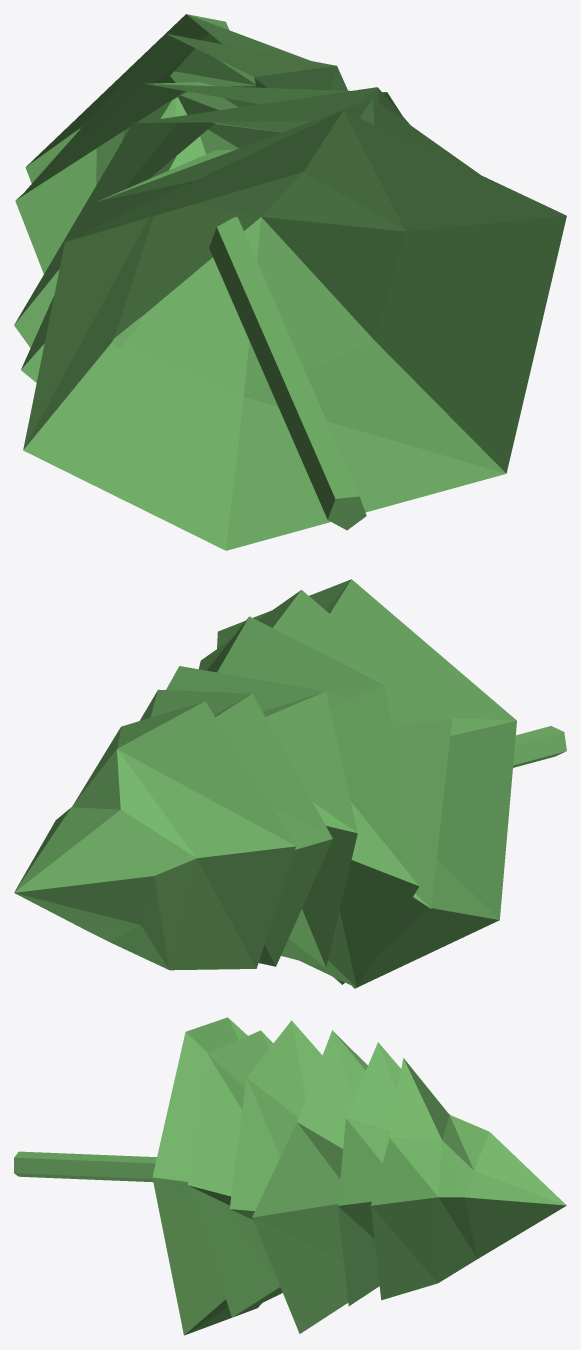
The model's file is Tree2.fbx.
3 views of the same model, one above another, from view 1: azimuth 30°, elevation 25°; view 2: azimuth 150°, elevation 25°; view 3: azimuth 270°, elevation 25° (orthographic). The views are drawn at different scales.
Parts seen in each view (by area): view 1: Tree2; view 2: Tree2; view 3: Tree2.
Part boxes in pixels (x1,y1,x2,y2): Tree2: [14, 14, 566, 550]; Tree2: [14, 579, 566, 988]; Tree2: [14, 1017, 566, 1335].
Bounding box in the file's own units: 564 × 557 × 945.
